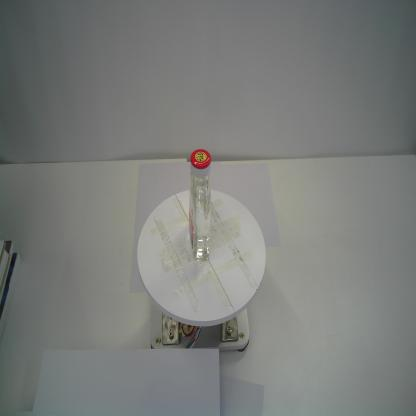Alcohol: (188, 148, 212, 262)
